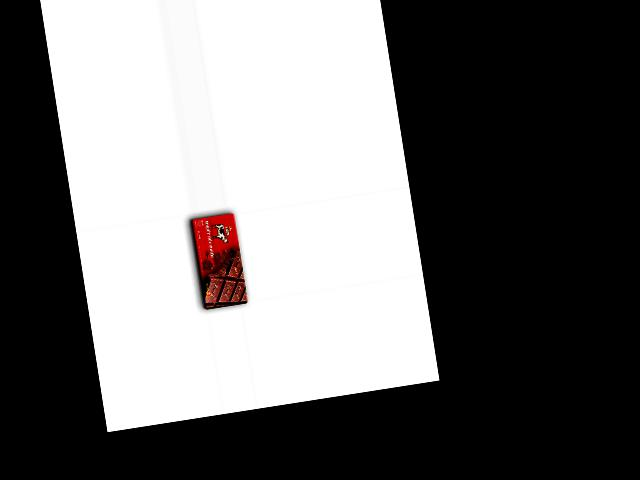chocolate: (187, 210, 250, 312)
